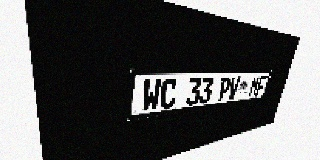3: (185, 78, 202, 106), (198, 77, 214, 104)
C: (159, 78, 178, 110)
F: (255, 76, 267, 96)
M: (248, 76, 260, 97)
P: (217, 77, 232, 101)
V: (227, 77, 241, 100)
W: (141, 79, 162, 112)
